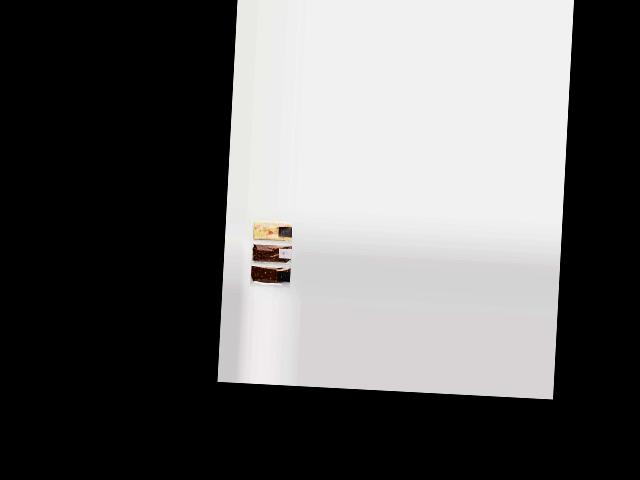chocolate: (248, 266, 290, 287)
